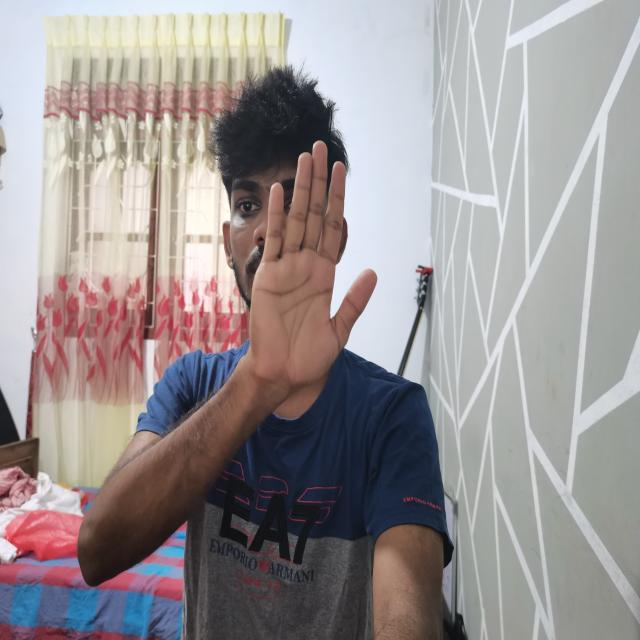Hello: (236, 137, 378, 396)
